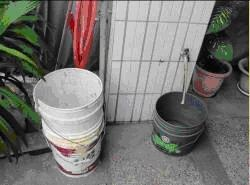bucket: (33, 67, 102, 132), (148, 90, 208, 155), (40, 117, 102, 176)
